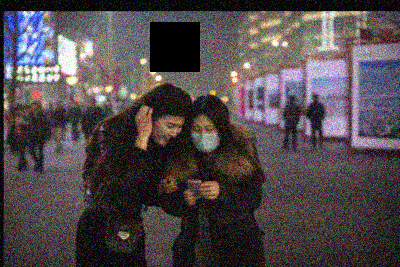with_mask: (189, 121, 221, 153)
without_mask: (151, 120, 185, 147)
